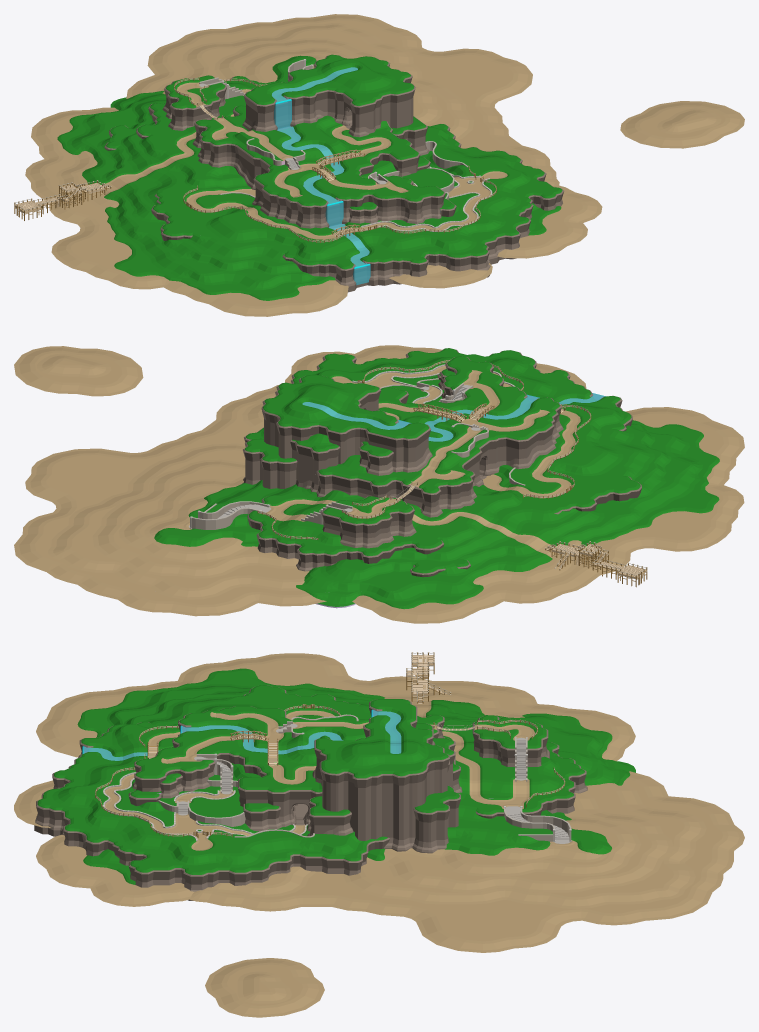
File: Large_Island_v2_No_Ocean_No_Props_Terraced.glb
3 views of the same model, one above another, from view 1: azimuth 30°, elevation 25°; view 2: azimuth 150°, elevation 25°; view 3: azimuth 270°, elevation 25° (orthographic). The views are drawn at different scales.
Visible parts, largest first — view 1: Terrain_Sand_Flat_1x1__Dirt__2__0__31, Terrain_Sand_Incline_Curve_Outer_12x12__Dirt__0__0__12, Terrain_Sand_Incline_Curve_Outer_12x12__Dirt__0__0__10, Terrain_Sand_Incline_Curve_Outer_12x12__Dirt__0__0__11, Terrain_Sand_Incline_Curve_Outer_12x12__Dirt__0__0__8, Terrain_Sand_Incline_Curve_Outer_12x12__Dirt__0__0__2, Terrain_Sand_Incline_Curve_Outer_12x12__Dirt__0__0__15, Terrain_Sand_Incline_Curve_Outer_12x12__Dirt__0__0__4, Terrain_Sand_Incline_Curve_Outer_12x12__Dirt__0__0__1, Terrain_Sand_Flat_1x1__Dirt__2__0__48, Terrain_Sand_Incline_Curve_Outer_12x12__Dirt__0__0__5, Terrain_Sand_Incline_Curve_Outer_12x12__Dirt__0__0__13 (+11 smaller); view 2: Terrain_Sand_Flat_1x1__Dirt__2__0__31, Terrain_Sand_Incline_Curve_Outer_12x12__Dirt__0__0__15, Terrain_Sand_Incline_Curve_Outer_12x12__Dirt__0__0__2, Terrain_Sand_Incline_Curve_Outer_12x12__Dirt__0__0__1, Terrain_Sand_Incline_Curve_Outer_12x12__Dirt__0__0__12, Terrain_Sand_Incline_Curve_Outer_12x12__Dirt__0__0__10, Terrain_Sand_Incline_Curve_Outer_12x12__Dirt__0__0__5, Terrain_Sand_Incline_Curve_Outer_12x12__Dirt__0__0__14, Terrain_Sand_Incline_Curve_Outer_12x12__Dirt__0__0__11, Terrain_Sand_Incline_Curve_Outer_12x12__Dirt__0__0__9, Terrain_Sand_Incline_Curve_Outer_12x12__Dirt__0__0__13, Terrain_Sand_Flat_1x1__Dirt__2__0__48 (+28 smaller); view 3: Terrain_Sand_Flat_1x1__Dirt__2__0__31, Terrain_Sand_Incline_Curve_Outer_12x12__Dirt__0__0__12, Terrain_Sand_Incline_Curve_Outer_12x12__Dirt__0__0__13, Terrain_Sand_Incline_Curve_Outer_12x12__Dirt__0__0__5, Terrain_Sand_Incline_Curve_Outer_12x12__Dirt__0__0__14, Terrain_Sand_Incline_Curve_Outer_12x12__Dirt__0__0__10, Terrain_Sand_Incline_Curve_Outer_12x12__Dirt__0__0__9, Terrain_Sand_Flat_1x1__Dirt__2__0__59, Terrain_Sand_Incline_Curve_Outer_12x12__Dirt__0__0__8, Terrain_Sand_Incline_Curve_Outer_12x12__Dirt__0__0__2, Terrain_Sand_Incline_Curve_Outer_12x12__Dirt__0__0__15, Terrain_Sand_Incline_Curve_Outer_12x12__Dirt__0__0__1 (+16 smaller).
Boxes of the visible parts, box(x1,y1,x2,y2) form: Terrain_Sand_Flat_1x1__Dirt__2__0__31: box(417, 58, 493, 97); Terrain_Sand_Incline_Curve_Outer_12x12__Dirt__0__0__12: box(475, 65, 532, 99); Terrain_Sand_Incline_Curve_Outer_12x12__Dirt__0__0__10: box(210, 294, 289, 316); Terrain_Sand_Incline_Curve_Outer_12x12__Dirt__0__0__11: box(625, 126, 704, 148); Terrain_Sand_Incline_Curve_Outer_12x12__Dirt__0__0__8: box(297, 280, 348, 310); Terrain_Sand_Incline_Curve_Outer_12x12__Dirt__0__0__2: box(147, 41, 189, 74); Terrain_Sand_Incline_Curve_Outer_12x12__Dirt__0__0__15: box(31, 112, 72, 145); Terrain_Sand_Incline_Curve_Outer_12x12__Dirt__0__0__4: box(389, 271, 464, 288); Terrain_Sand_Incline_Curve_Outer_12x12__Dirt__0__0__1: box(240, 52, 283, 81); Terrain_Sand_Flat_1x1__Dirt__2__0__48: box(82, 241, 131, 265); Terrain_Sand_Incline_Curve_Outer_12x12__Dirt__0__0__5: box(313, 14, 392, 30); Terrain_Sand_Incline_Curve_Outer_12x12__Dirt__0__0__13: box(427, 111, 474, 140); Terrain_Sand_Flat_1x1__Dirt__2__0__31: box(66, 457, 149, 500); Terrain_Sand_Incline_Curve_Outer_12x12__Dirt__0__0__15: box(393, 602, 478, 623); Terrain_Sand_Incline_Curve_Outer_12x12__Dirt__0__0__2: box(172, 592, 257, 616); Terrain_Sand_Incline_Curve_Outer_12x12__Dirt__0__0__1: box(162, 539, 247, 562); Terrain_Sand_Incline_Curve_Outer_12x12__Dirt__0__0__12: box(38, 448, 122, 472); Terrain_Sand_Incline_Curve_Outer_12x12__Dirt__0__0__10: box(697, 421, 744, 457); Terrain_Sand_Incline_Curve_Outer_12x12__Dirt__0__0__5: box(14, 535, 57, 571); Terrain_Sand_Incline_Curve_Outer_12x12__Dirt__0__0__14: box(92, 526, 138, 562); Terrain_Sand_Incline_Curve_Outer_12x12__Dirt__0__0__11: box(97, 351, 143, 387); Terrain_Sand_Incline_Curve_Outer_12x12__Dirt__0__0__9: box(14, 355, 61, 391); Terrain_Sand_Incline_Curve_Outer_12x12__Dirt__0__0__13: box(175, 443, 245, 461); Terrain_Sand_Flat_1x1__Dirt__2__0__48: box(651, 511, 713, 533); Terrain_Sand_Flat_1x1__Dirt__2__0__31: box(439, 900, 537, 922); Terrain_Sand_Incline_Curve_Outer_12x12__Dirt__0__0__12: box(418, 923, 482, 952); Terrain_Sand_Incline_Curve_Outer_12x12__Dirt__0__0__13: box(342, 869, 406, 899); Terrain_Sand_Incline_Curve_Outer_12x12__Dirt__0__0__5: box(646, 890, 711, 920); Terrain_Sand_Incline_Curve_Outer_12x12__Dirt__0__0__14: box(597, 858, 662, 887); Terrain_Sand_Incline_Curve_Outer_12x12__Dirt__0__0__10: box(47, 690, 112, 717); Terrain_Sand_Incline_Curve_Outer_12x12__Dirt__0__0__9: box(259, 987, 324, 1017); Terrain_Sand_Flat_1x1__Dirt__2__0__59: box(285, 871, 372, 895); Terrain_Sand_Incline_Curve_Outer_12x12__Dirt__0__0__8: box(36, 729, 97, 757); Terrain_Sand_Incline_Curve_Outer_12x12__Dirt__0__0__2: box(668, 796, 733, 823); Terrain_Sand_Incline_Curve_Outer_12x12__Dirt__0__0__15: box(570, 708, 635, 736); Terrain_Sand_Incline_Curve_Outer_12x12__Dirt__0__0__1: box(576, 816, 640, 843).
Bounding box in the file's own units: 157 × 19.25 × 134.
